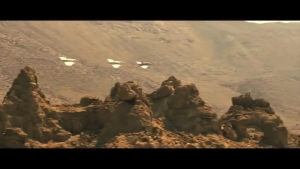flight: (59, 55, 81, 67), (107, 58, 126, 70), (136, 59, 152, 70)
